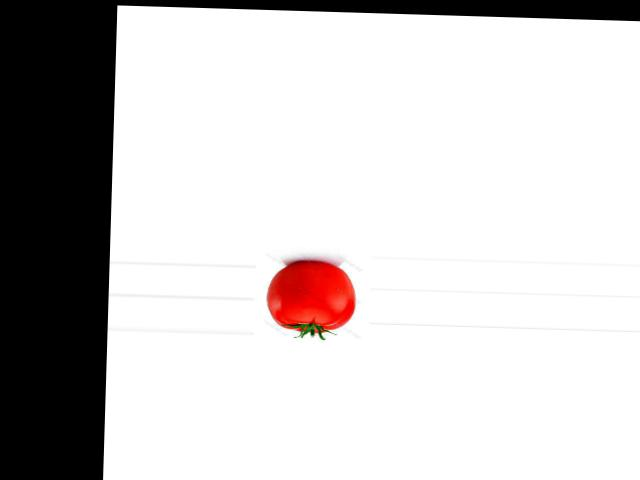tomato: (266, 261, 357, 333)
